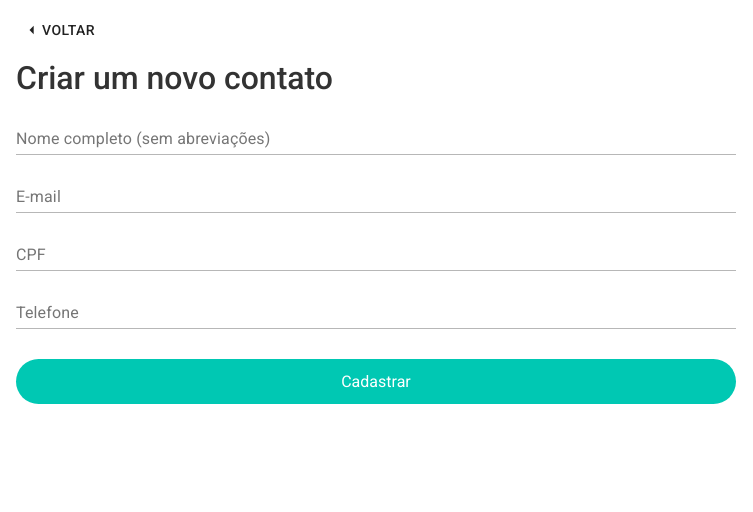
Test: ContactForm component › should show error messages when fields are not filled
Click the button "Cadastrar". click: (376,381)
box: [16,358,736,404]
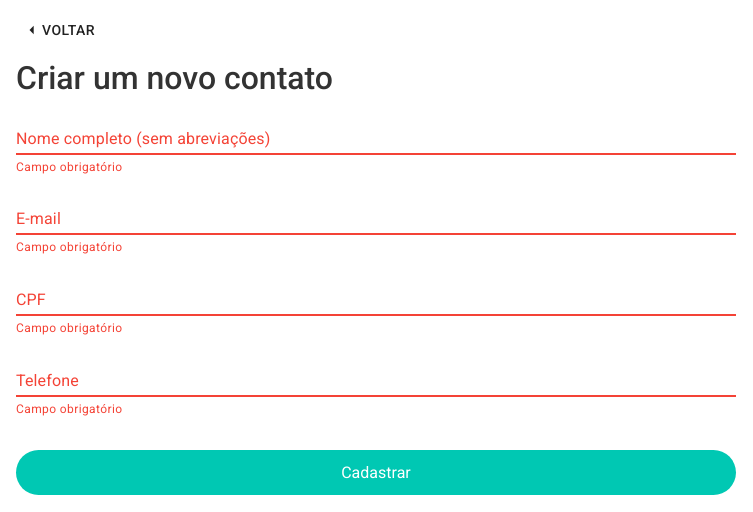
Expected: the text "Campo obrigatório" is shown 4 times, [16,160,122,174]; [16,240,122,254]; [16,321,122,335]; [16,402,122,416]
